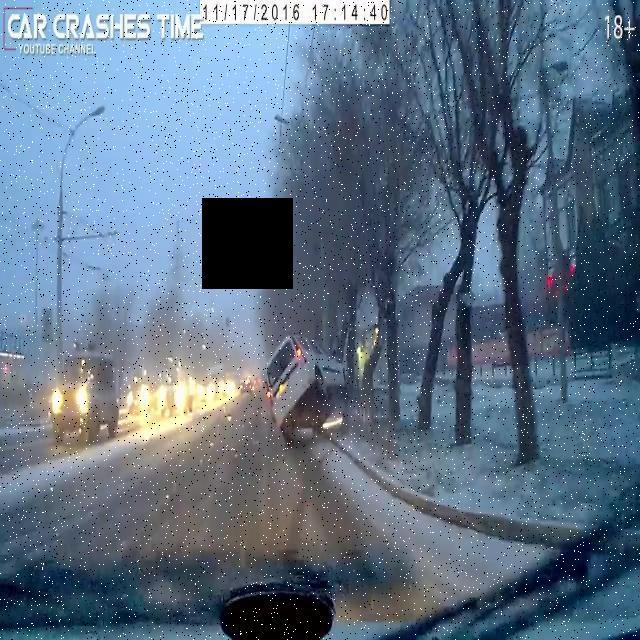severe: (260, 324, 356, 444)
